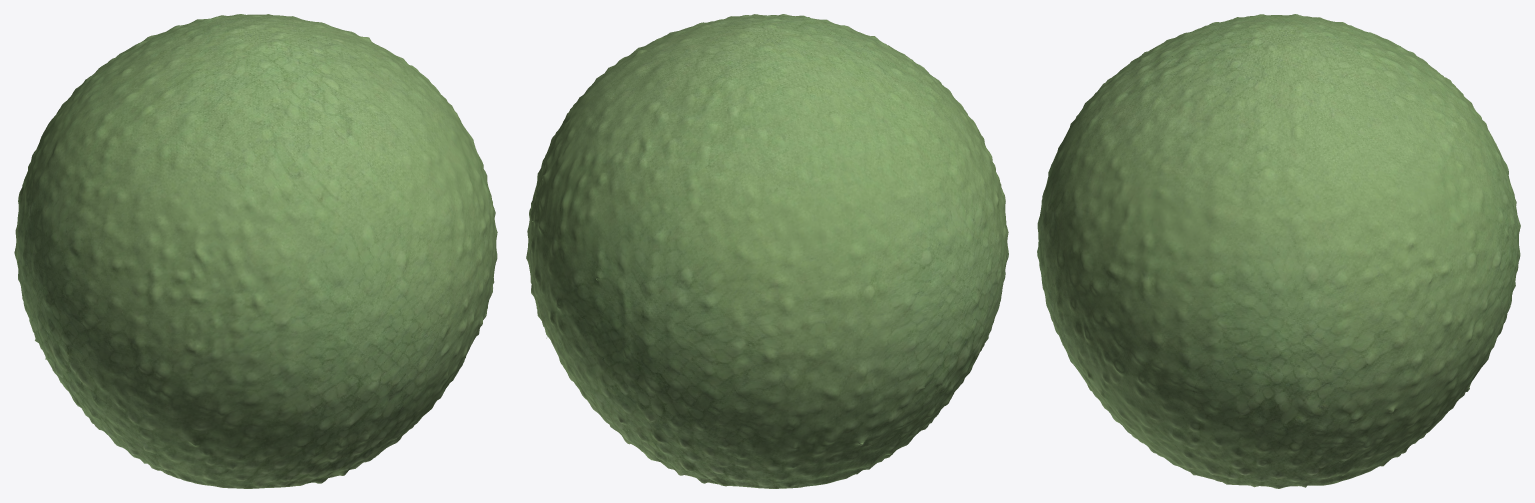
Rendered from small_bush_green.glb.
The picture shows the model from 3 angles, left to right: view 1: azimuth 30°, elevation 25°; view 2: azimuth 150°, elevation 25°; view 3: azimuth 270°, elevation 25°; orthographic projection.
Parts seen in each view (by area): view 1: model; view 2: model; view 3: model.
Boxes of the visible parts, box(x1,y1,x2,y2) form: model: box(14, 14, 497, 488); model: box(526, 14, 1008, 488); model: box(1037, 14, 1520, 488).
Bounding box in the file's own units: 1.86 × 1.69 × 1.86.
1 material, 1 textured.
